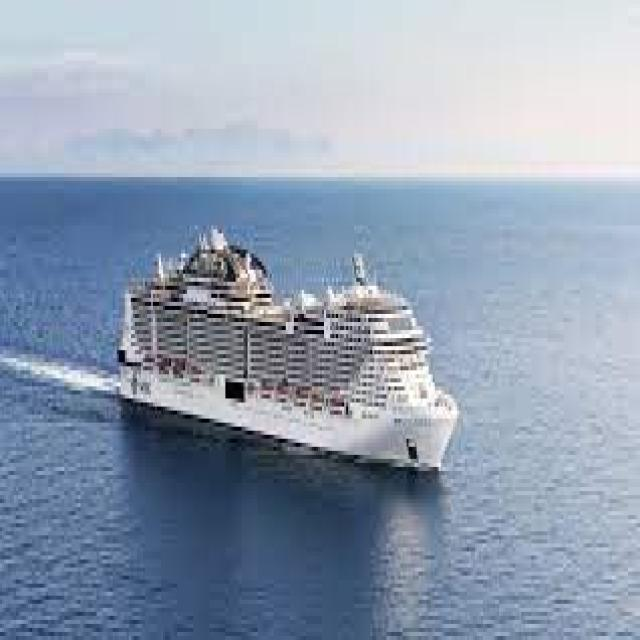passenger ship: (115, 222, 461, 470)
